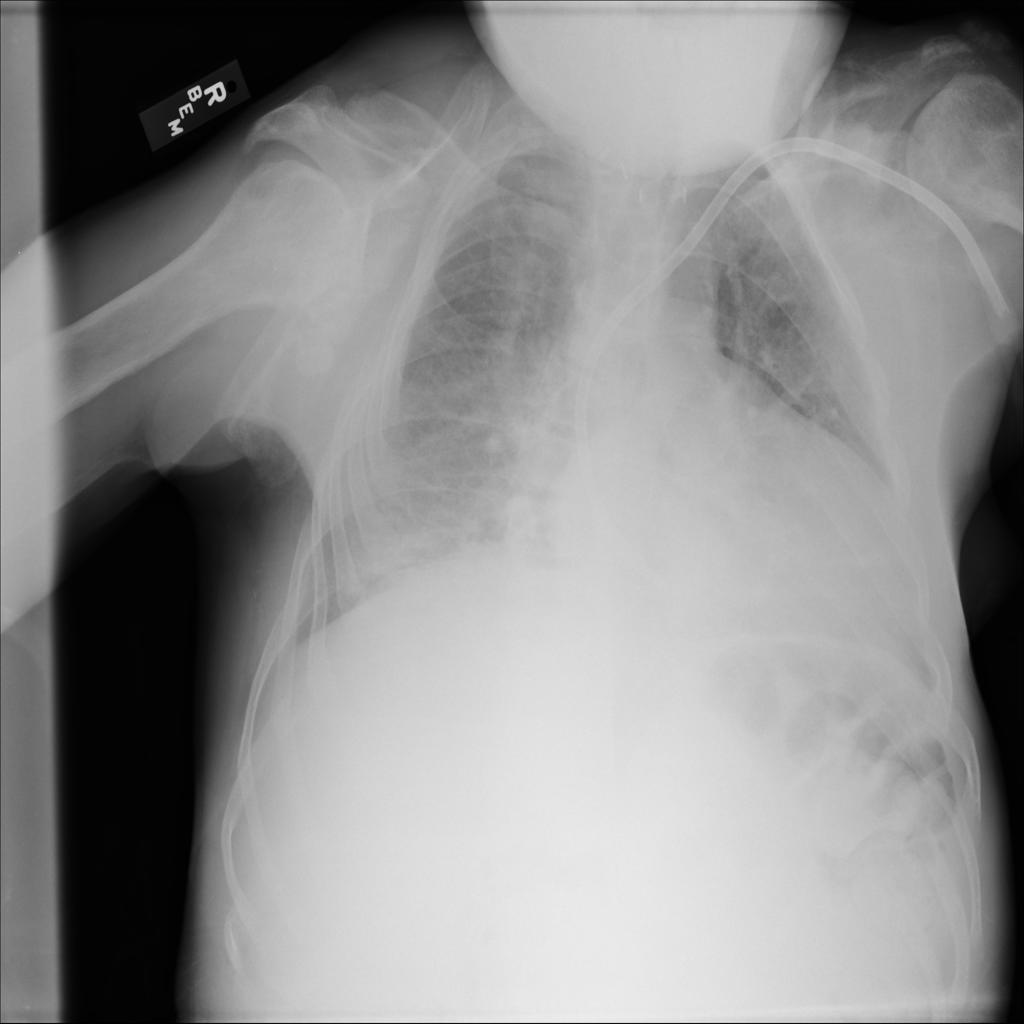Cardiomegaly: (553, 348, 921, 679)
